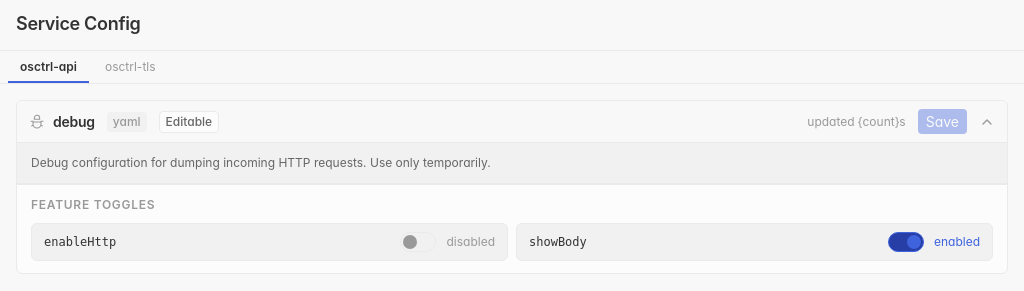
Test: ServiceConfigPage › renders boolean toggle switches that can be toggled
Expected: the heading "debug" is shown, [53,112,95,132]
// Toggle it on
Click the switch next to "disabled" at {"x": 418, "y": 242}, box [400,232,436,252]
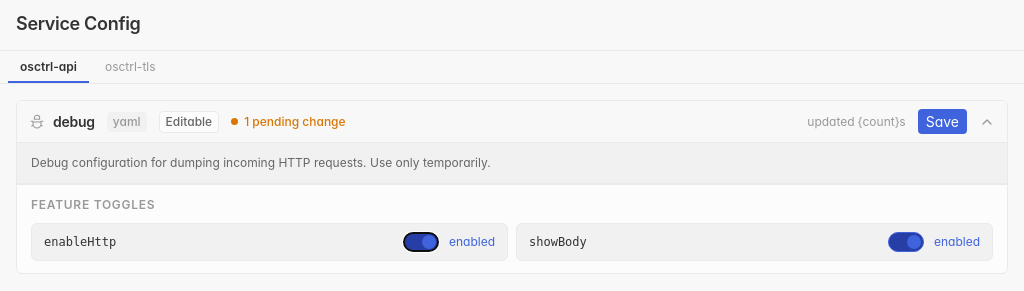
Now the button "Save" is enabled, box [918,109,967,134]
